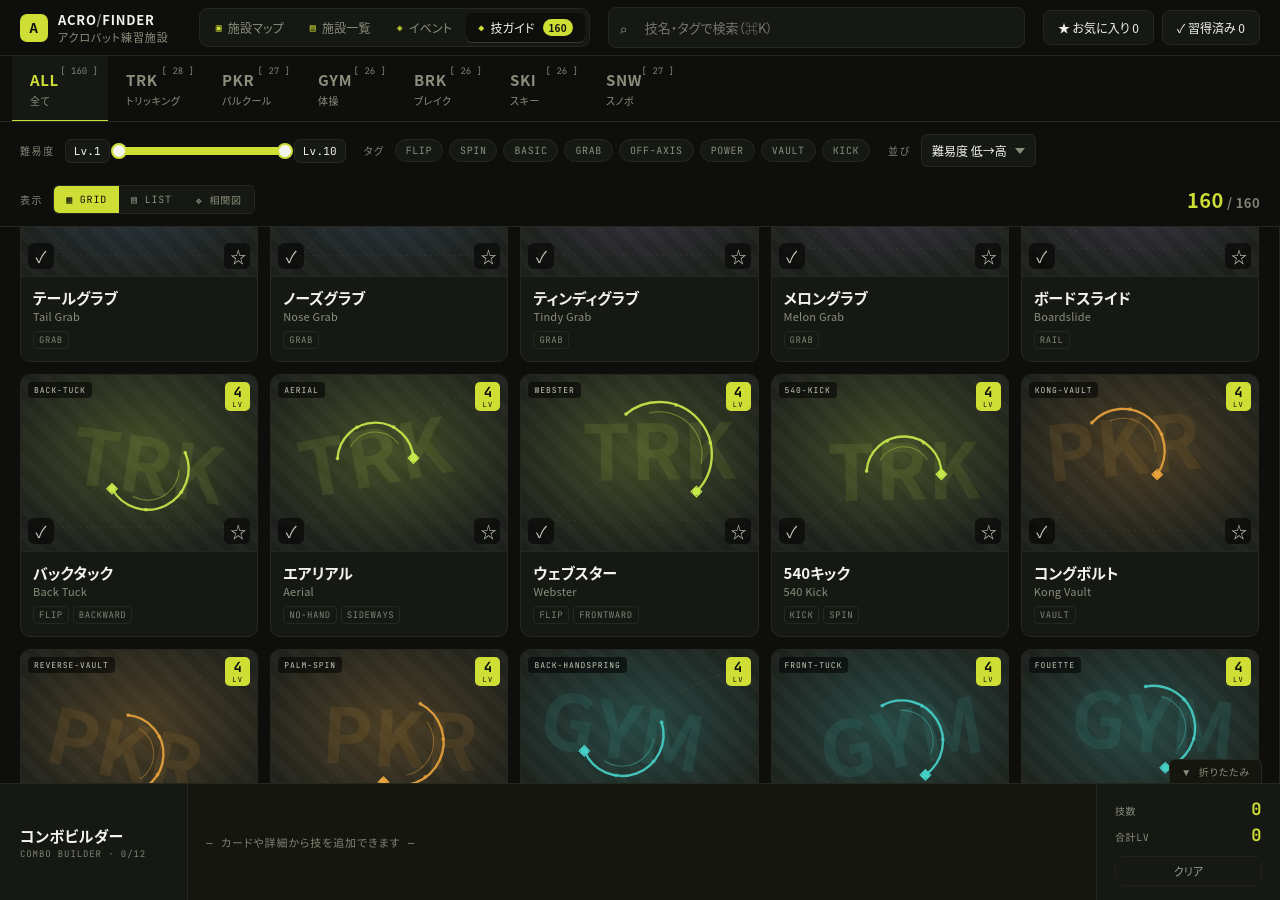
SkillsApp › detail panel › shows the skill's name, level, tips and video search link
(page scrolled)
Click the element with class "skl-card" that starts with "TRK": (139, 505) [20,374,258,637]
(page scrolled)
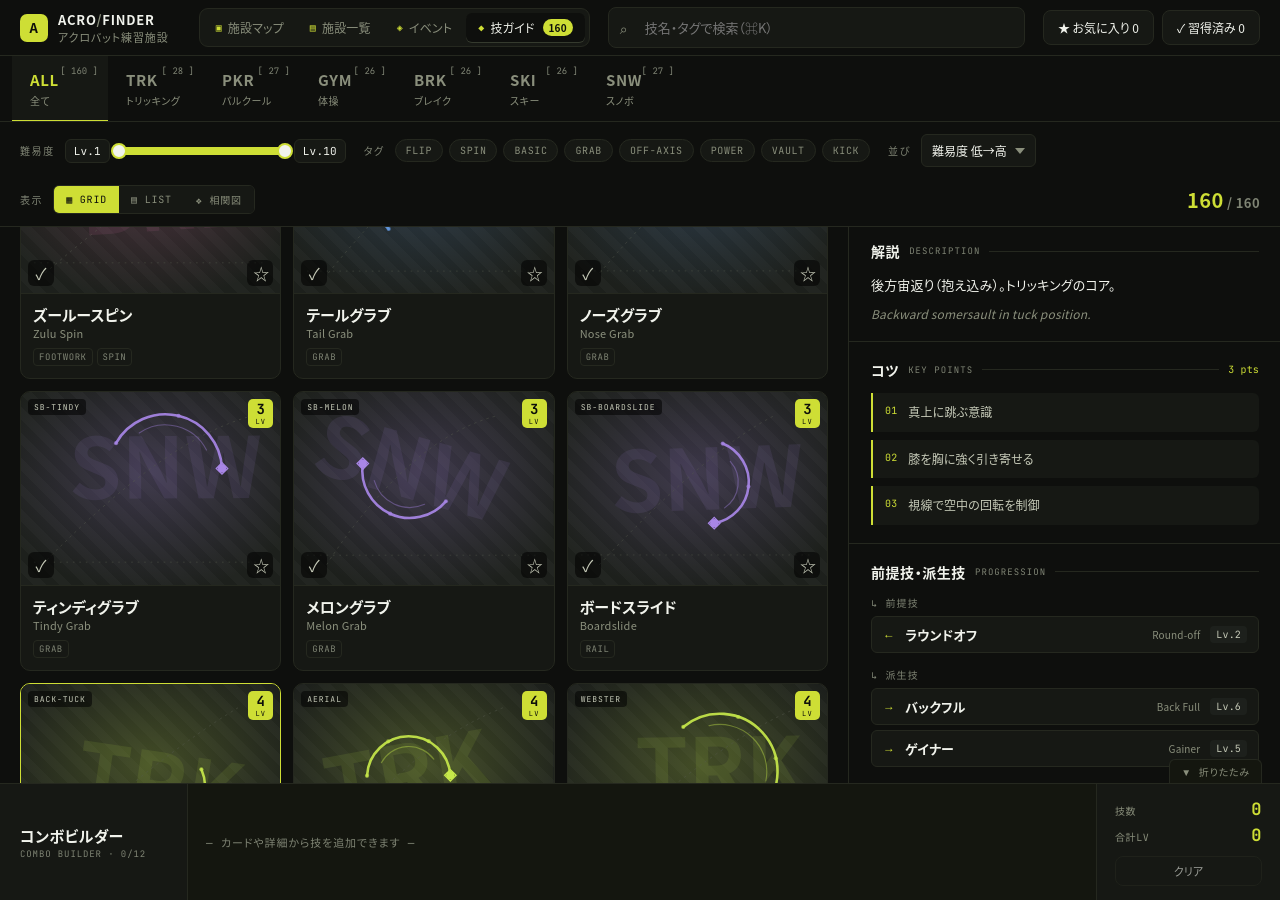
Result: the text "真上に跳ぶ意識" is shown at [908,403,992,422]
Result: the text "膝を胸に強く引き寄せる" is shown at [908,450,1034,468]
Result: the text "視線で空中の回転を制御" is shown at [908,496,1040,515]
